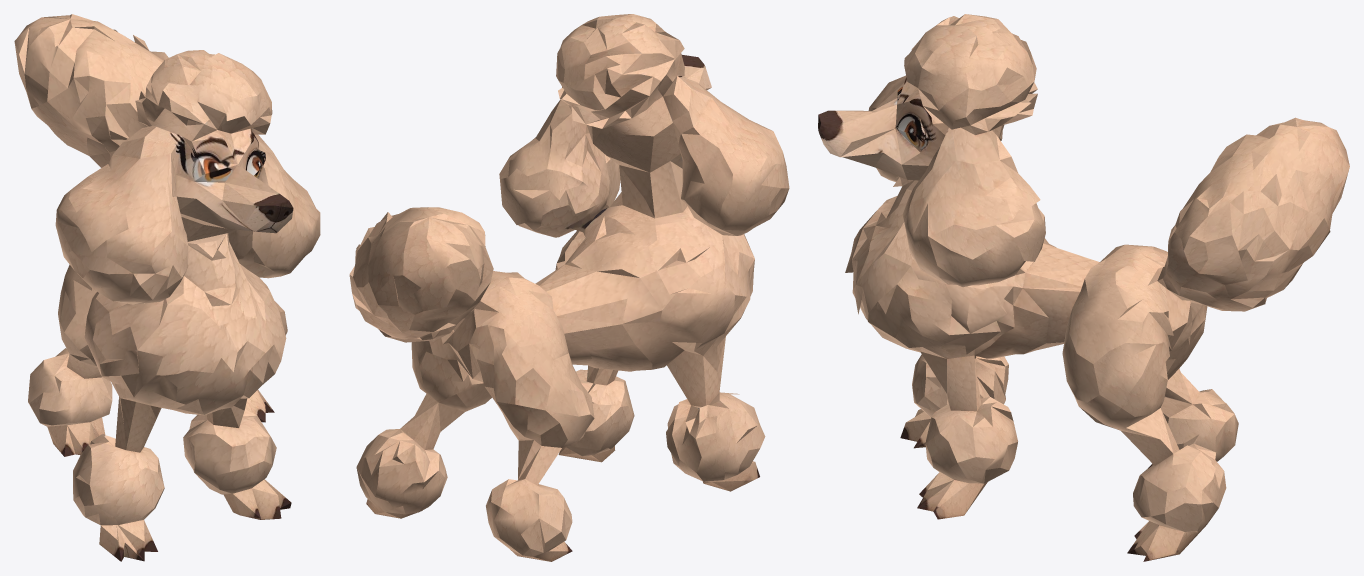
File: dog-poodle.glb
3 renders of one model, left to right at view 1: azimuth 30°, elevation 25°; view 2: azimuth 150°, elevation 25°; view 3: azimuth 270°, elevation 25°, orthographic.
Bounding box in the file's own units: 0.3491 × 0.5 × 0.5234.
Materials: 1 (1 with a texture image).
